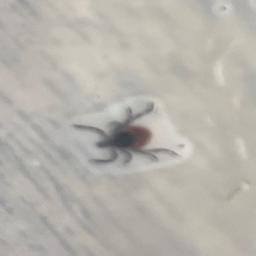Ixodes scapularis: (71, 101, 181, 163)
